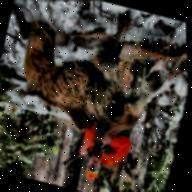boar: (0, 0, 190, 152)
